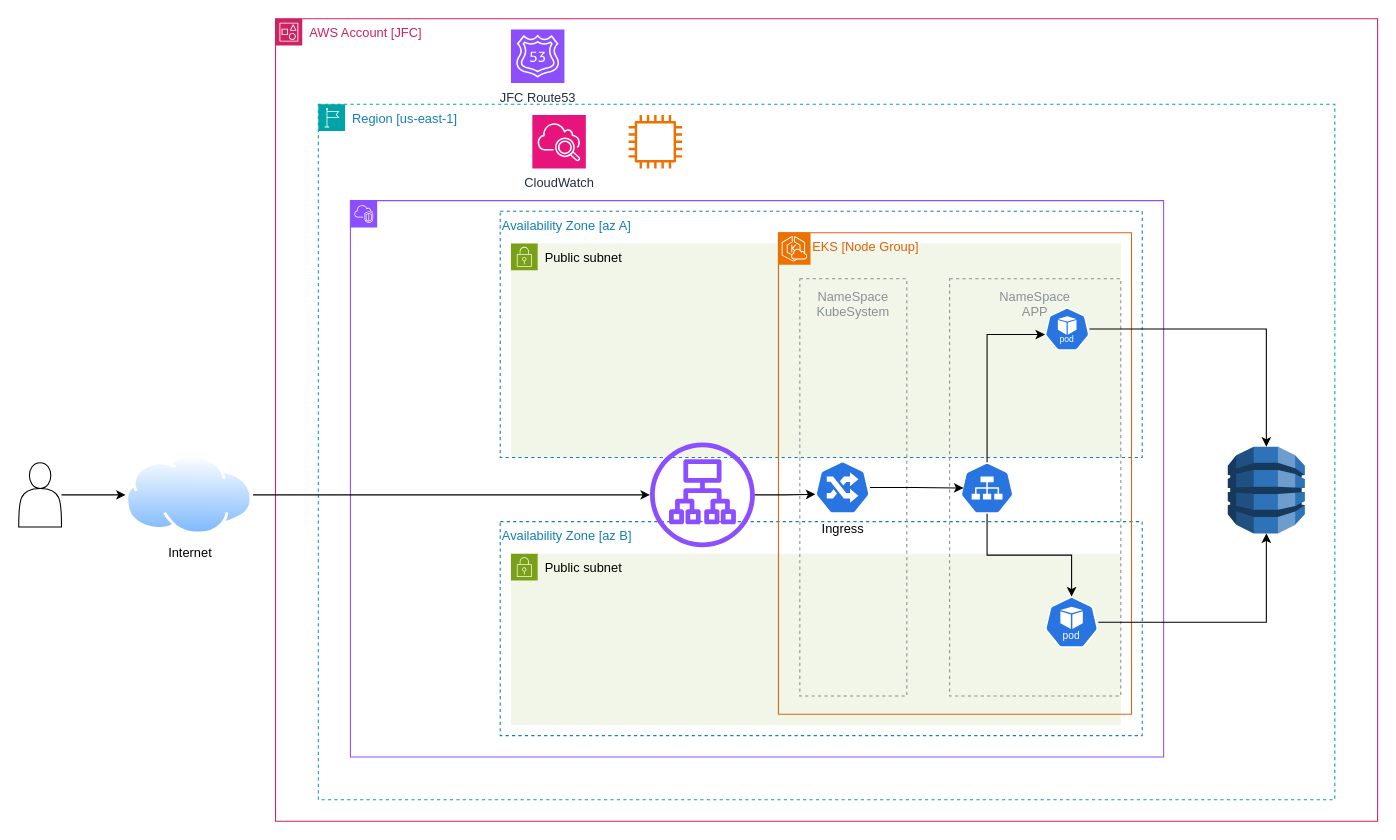
This 1396x840 diagram has some shape labels left out. The shapes that lost their labels are listed below. From the top down, each one's box as (x1, y1, x2, y2) in pixels, then its label:
(628, 114, 682, 168): Security Groups
(18, 462, 62, 527): JFC User
(649, 442, 754, 547): Application Load Balancer
(349, 200, 1164, 757): VPC-XX
(959, 461, 1014, 514): Service
(1227, 446, 1305, 533): Dynamo DB
